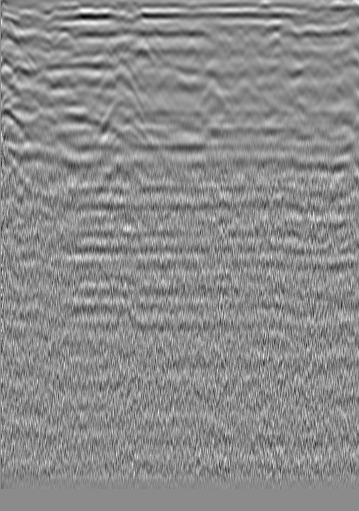가스: (93, 162, 139, 196)
상수: (23, 27, 43, 47)
오수: (295, 21, 315, 41)
우수: (158, 24, 178, 44)
